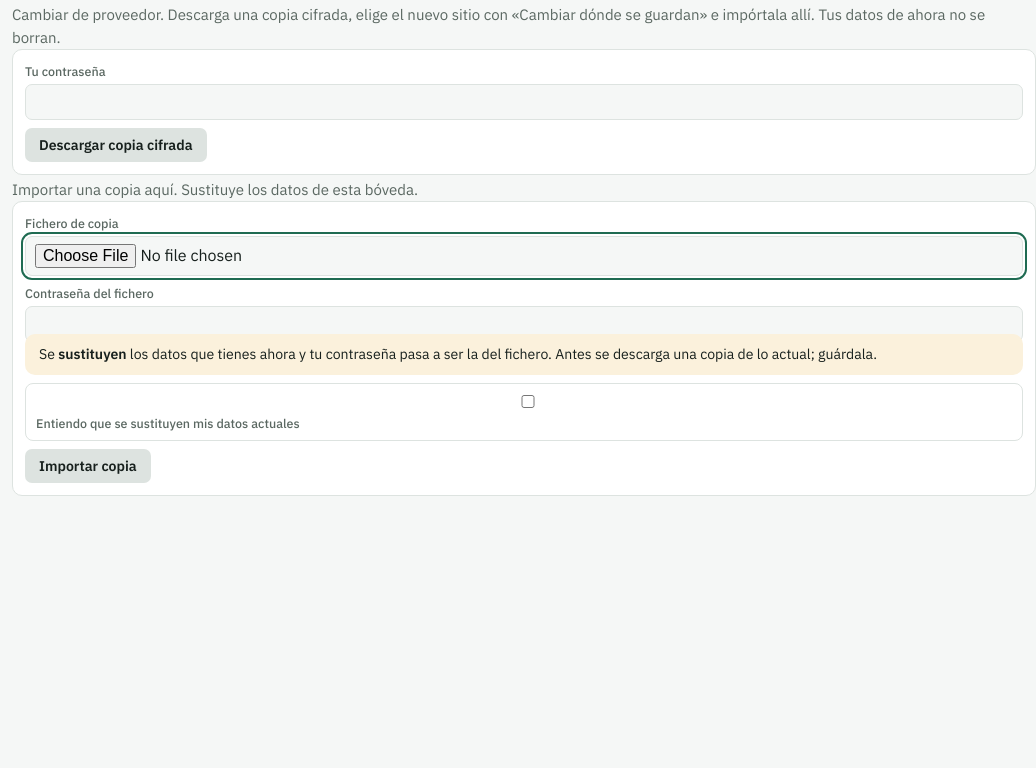
CopiaDatos › fichero corrupto: error claro y nada cambia
Earlier steps of the test are not shown.
Step 1. Type "x" into the password field labelled "Contraseña del fichero" → (524, 324), box [25,306,1023,342]
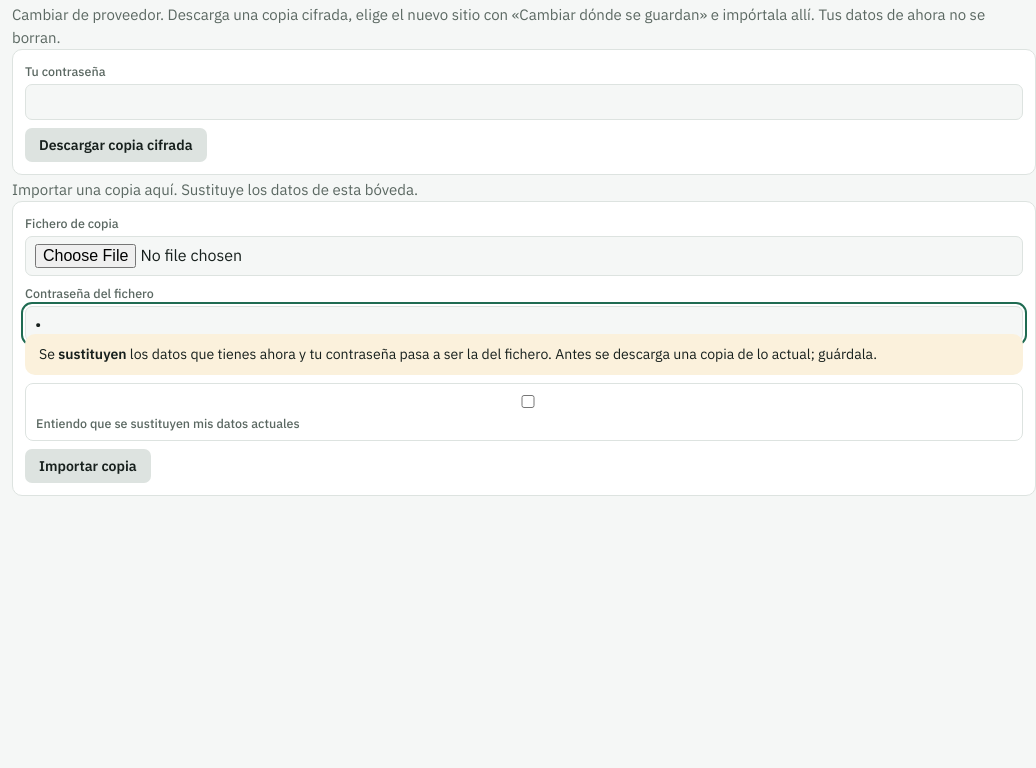
Step 2. Click the checkbox → (528, 401), box [40,395,1016,408]
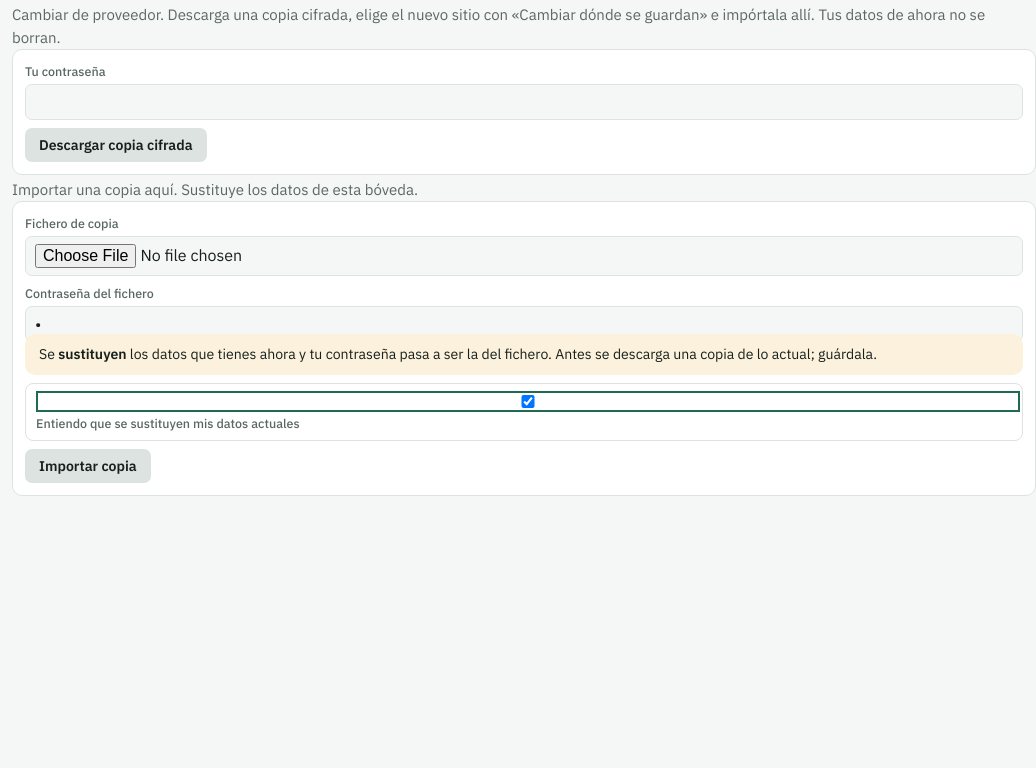
Step 3. Click the button "Importar copia" → (88, 466), box [25,450,151,484]
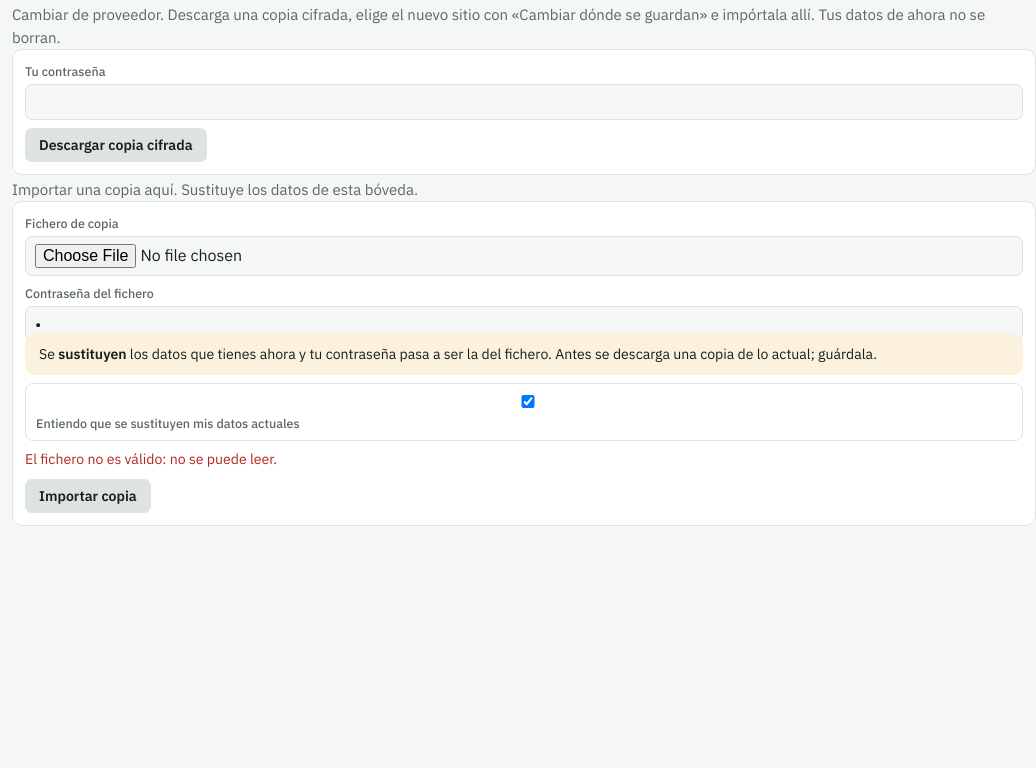
Now the message shows "no es válido", box [25,450,277,468]
